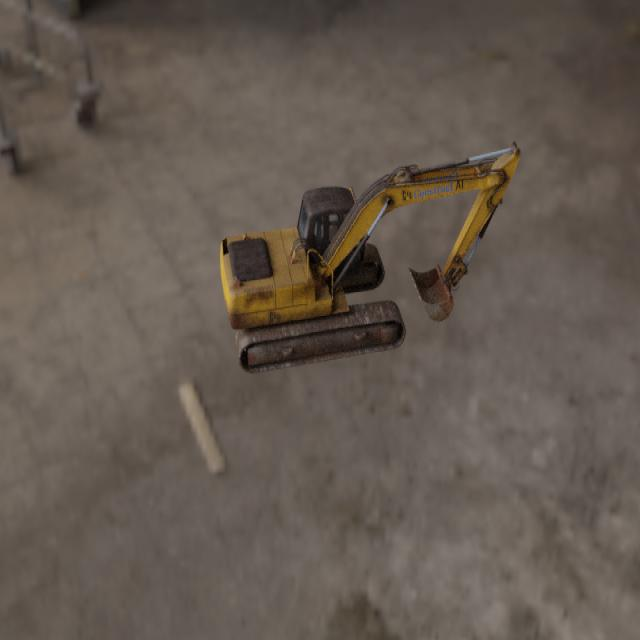excavator: (219, 140, 521, 373)
